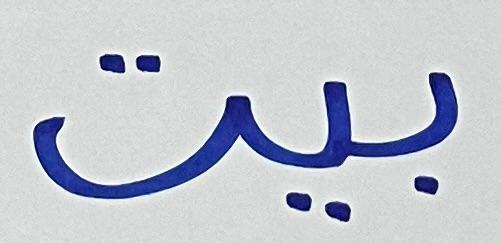beh: (363, 56, 470, 199)
teh: (19, 43, 257, 210)
yeh: (260, 63, 359, 225)
